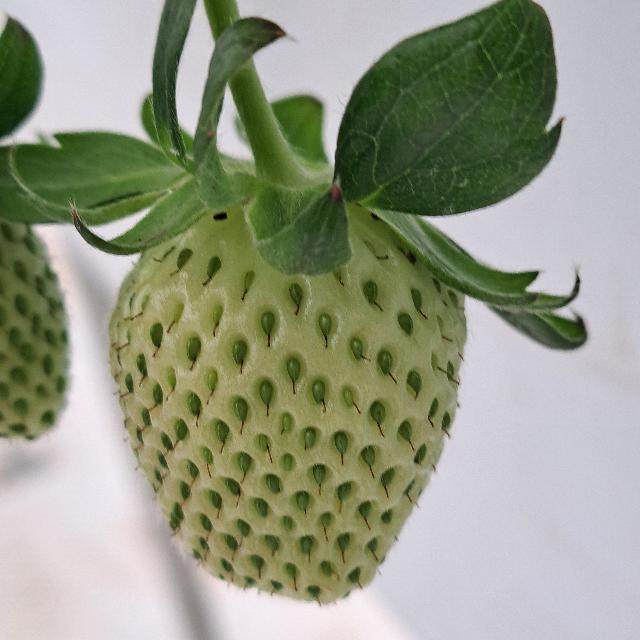Health_25: (108, 196, 466, 604)
